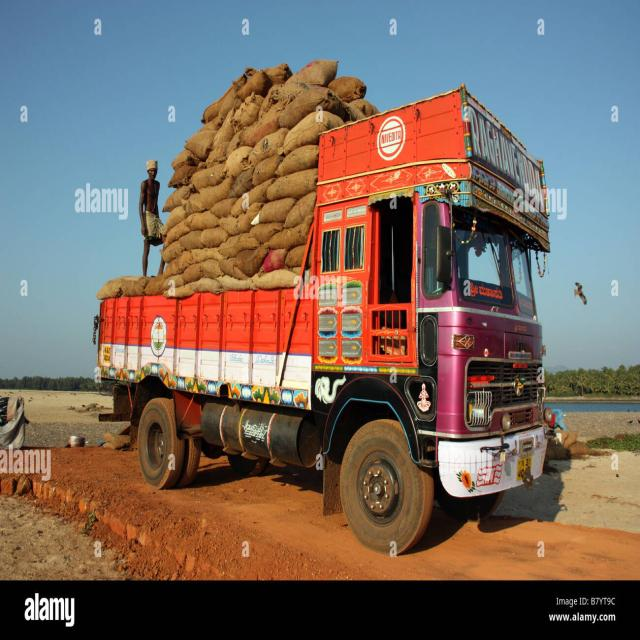normal_truck: (98, 88, 550, 554)
overloaded_truck: (98, 61, 370, 299)
